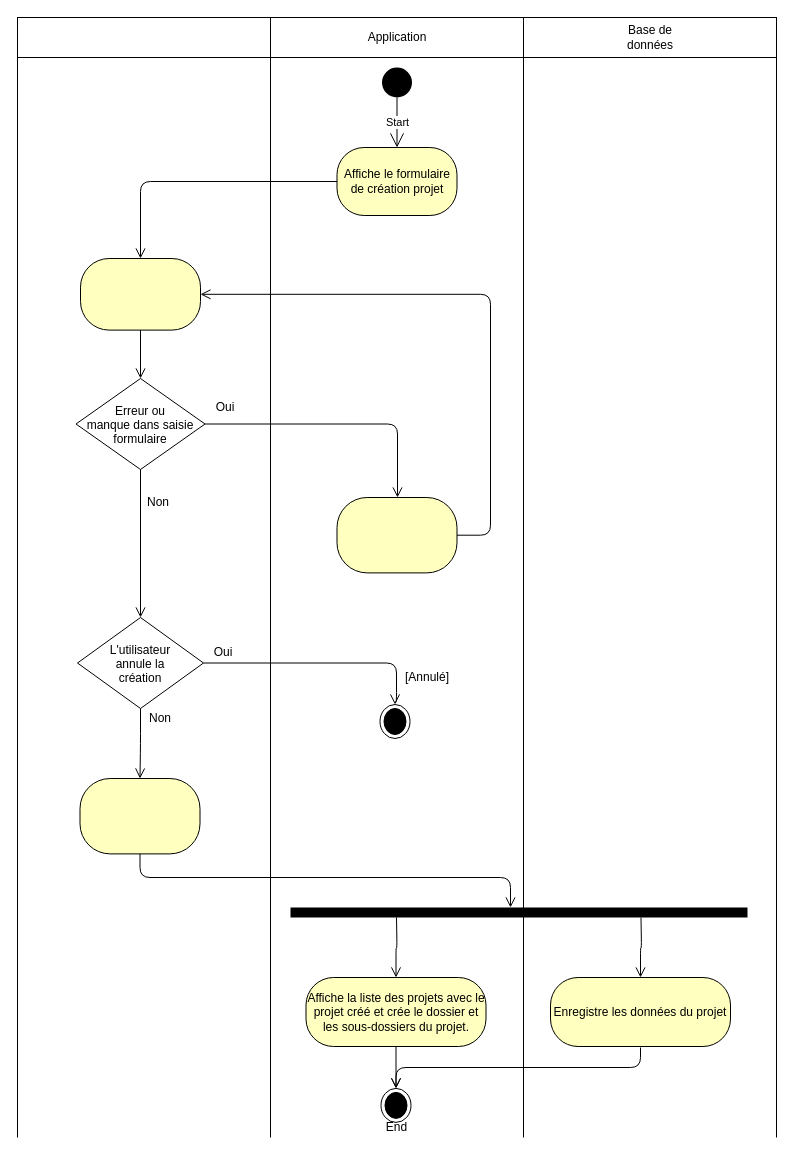
The diagram is 795 pixels wide and 1156 high, and some of its shapes have lost their labels. The shapes that lost their labels are listed below. From the top down, each one's centre as x and y in pixels, then its label:
At [143,37]: "Utilisateur".
At [140,294]: "Saisie les informations du projet".
At [396,534]: "L'application affiche un message d'erreur".
At [139,816]: "L'utilisateur demande l'enregistrement de ses saisies".
